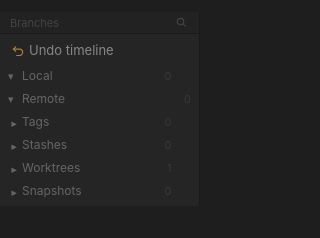
it: BranchPane — worktrees rendering › renders a detached worktree as a short hash
Click the text "Worktrees".
click(51, 168)  # box [22,160,80,175]
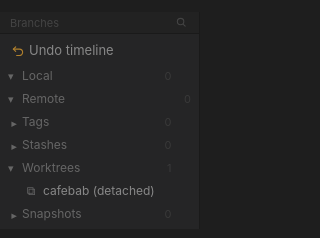
Now the text "cafebab (detached)" is shown, box [43,183,155,198]
